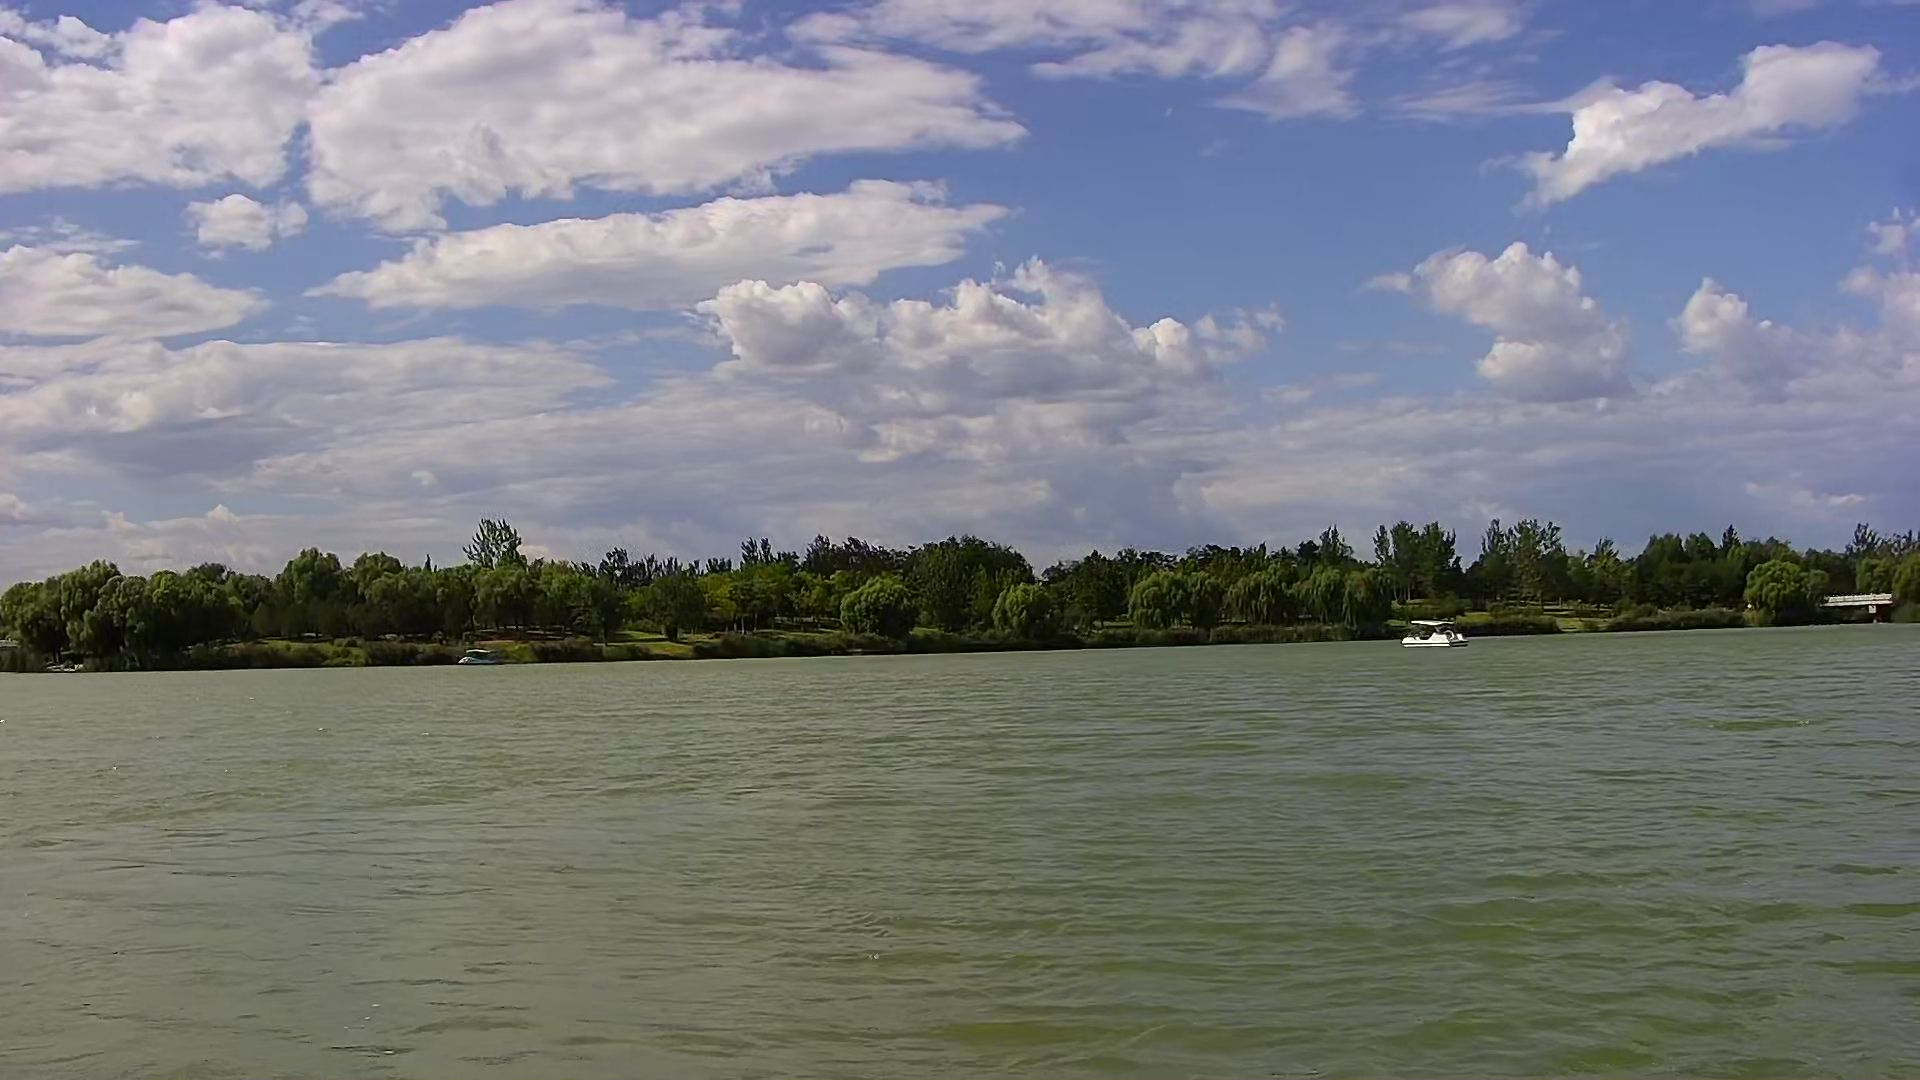boat: (1400, 617, 1462, 653)
bridge: (1828, 593, 1894, 622)
